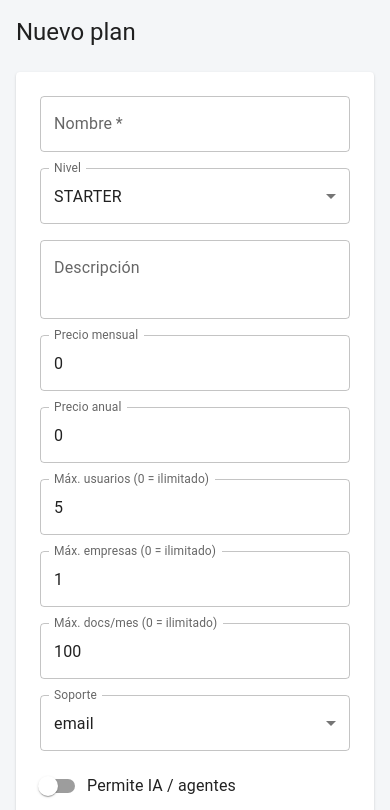
PlanFormPage (react-hook-form + zod) › rechaza un precio mal formado y no envía
Type "Plan Demo" into the field labelled "Nombre *" at [195, 124], box top-left (40, 96), bottom-right (350, 152)
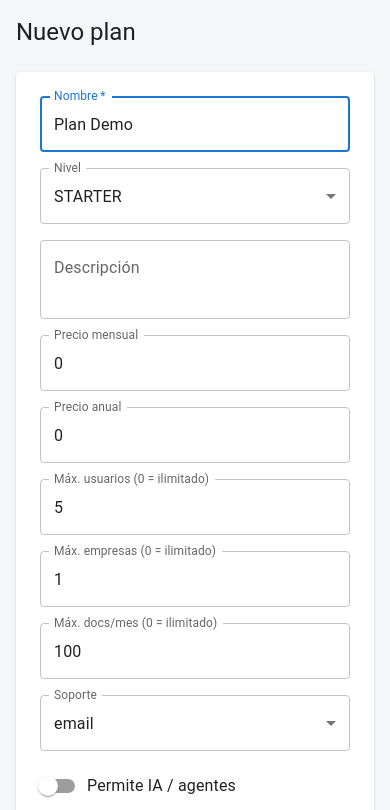
Replace the text in the field labelled "Precio mensual" with "10,5" at [195, 363], box top-left (40, 335), bottom-right (350, 391)
(page scrolled)
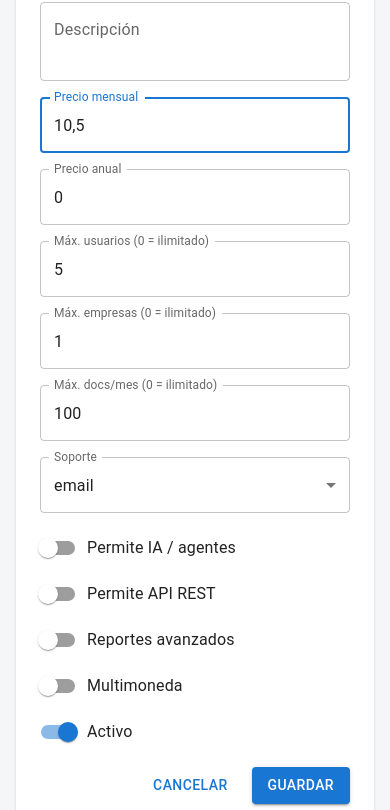
Click the button "Guardar" at [301, 785], box top-left (252, 767), bottom-right (350, 804)
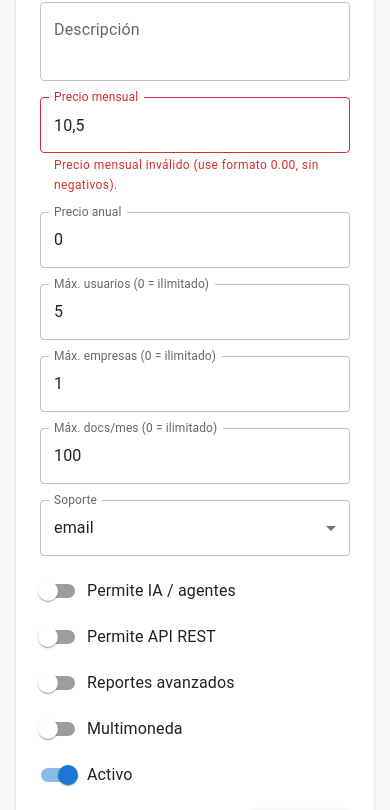
Check: the text "Precio mensual inválido (use formato 0.00, sin negativos)." is shown, box top-left (54, 156), bottom-right (336, 196)
